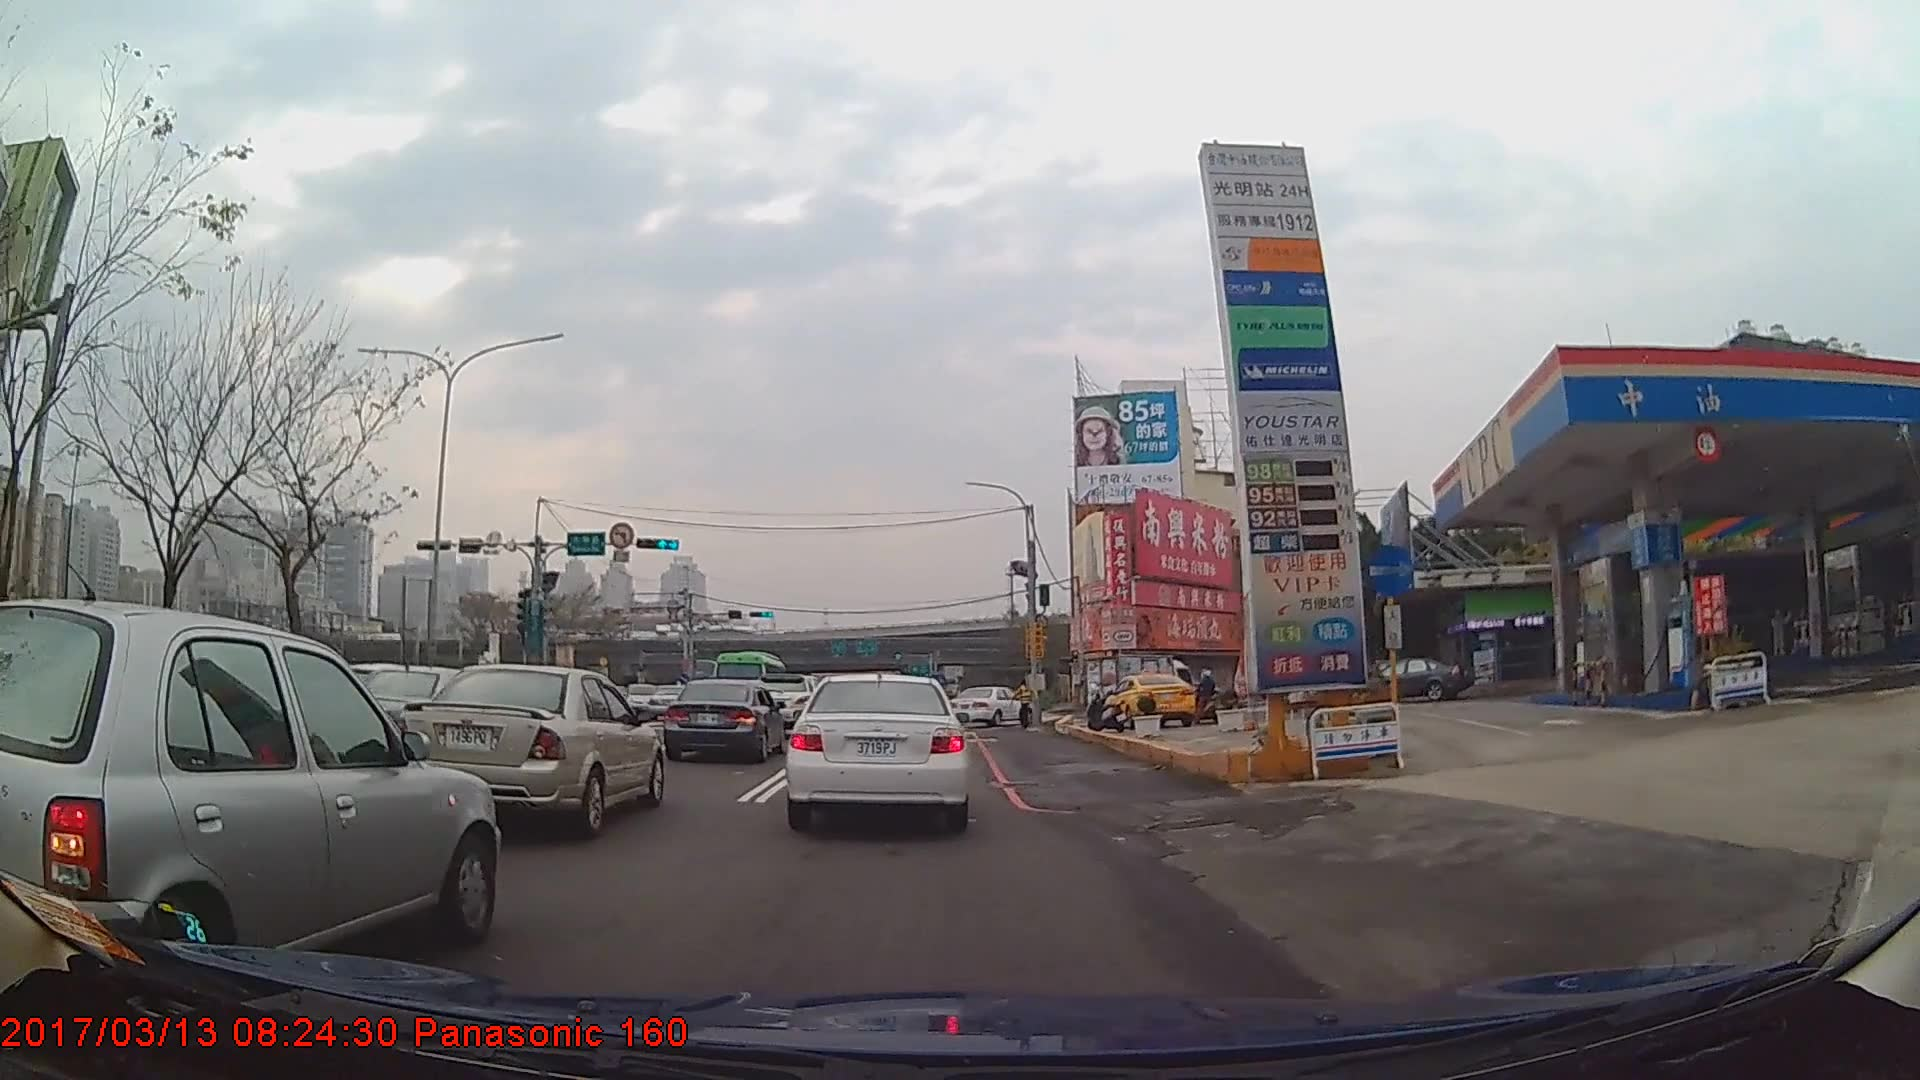rider: (1308, 661, 1346, 721), (1193, 670, 1228, 728)
vehicle: (0, 595, 500, 1000), (395, 664, 666, 836), (787, 666, 972, 832), (659, 677, 788, 766), (1083, 653, 1195, 716), (1105, 672, 1197, 728), (1362, 658, 1472, 701), (710, 651, 789, 711), (950, 685, 1033, 729)
